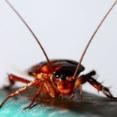cockroach: (8, 58, 110, 100)
